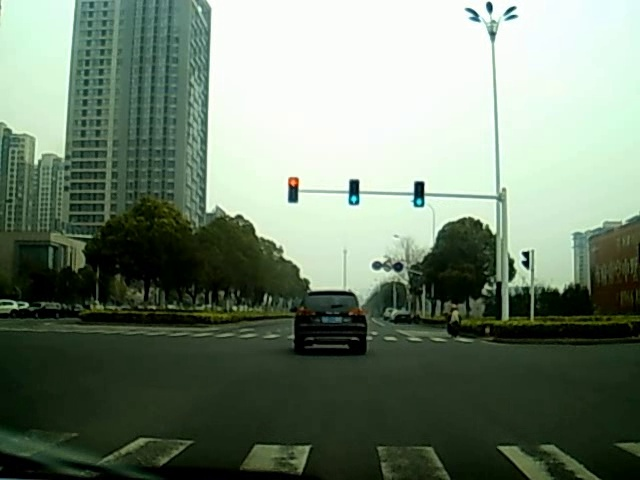Traffic_Light_go: (348, 181, 359, 206), (413, 184, 423, 206)
Traffic_Light_stop: (288, 178, 296, 205)
